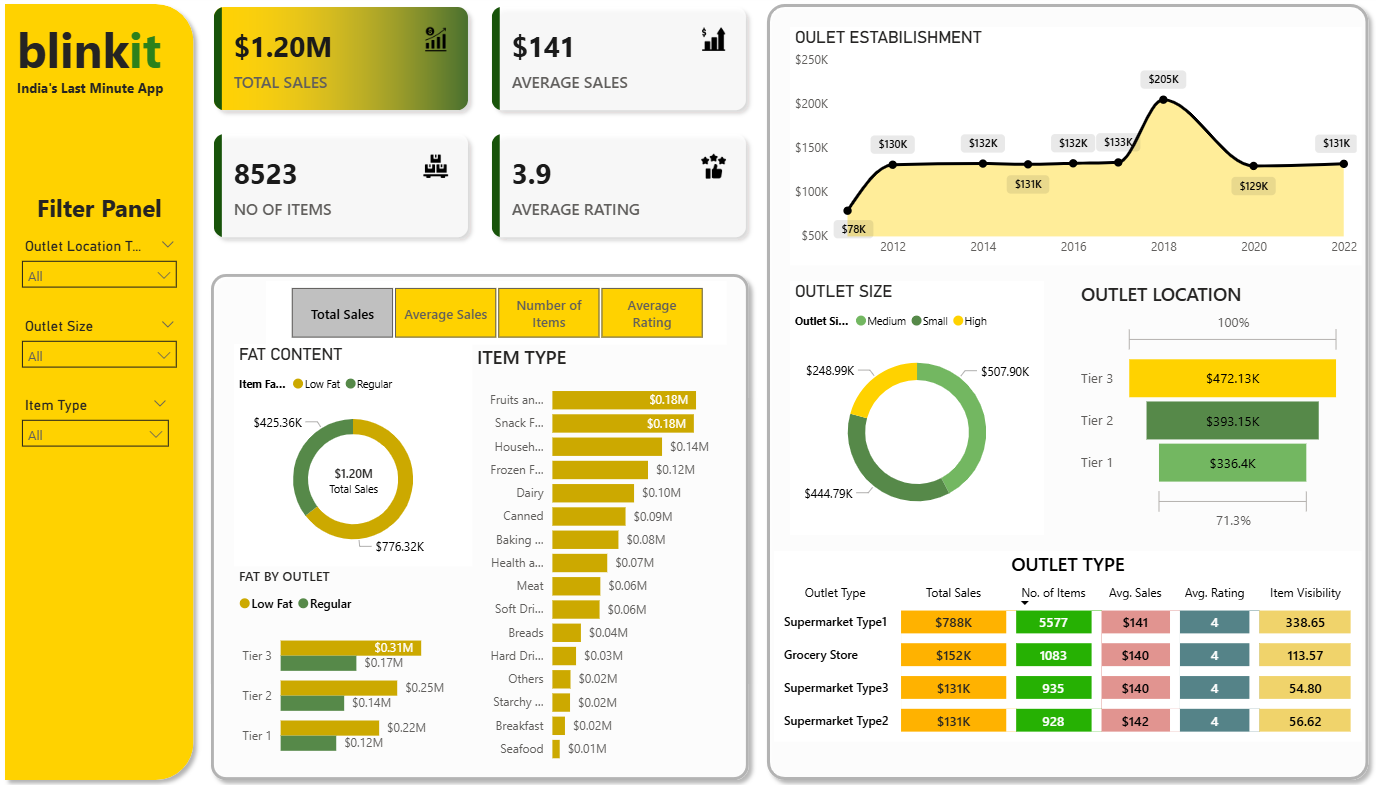

The dashboard page shown, as its layout file describes it:
{"tool":"powerbi","page":{"name":"Page 1","canvas":[1400,800],"ordinal":0},"visuals":[{"type":"shape","box":[0,0,208,800],"z":0},{"type":"textbox","box":[16,16,192,96],"z":1000},{"type":"textbox","box":[16,80,184,32],"z":2000},{"type":"cardVisual","fields":{"Data":["BlinkIT Grocery Data.Total Sales","BlinkIT Grocery Data.Average Sales","BlinkIT Grocery Data.Number of Items","BlinkIT Grocery Data.Average Rating"]},"box":[208,0,560,256],"z":3000},{"type":"shape","box":[208,272,560,528],"z":4000},{"type":"donutChart","title":"FAT CONTENT","fields":{"Y":["BlinkIT Grocery Data.Total Sales"],"Category":["BlinkIT Grocery Data.Item Fat Content"]},"box":[240,352,240,224],"z":5000},{"type":"slicer","fields":{"Values":["Metrics.Metrics"]},"box":[272,288,464,64],"z":6000},{"type":"cardVisual","fields":{"Data":["BlinkIT Grocery Data.Total Sales"]},"box":[312,456,96,64],"z":7000},{"type":"clusteredBarChart","title":"FAT BY OUTLET","fields":{"Y":["BlinkIT Grocery Data.Total Sales"],"Category":["BlinkIT Grocery Data.Outlet Location Type"],"Series":["BlinkIT Grocery Data.Item Fat Content"]},"box":[240,576,240,208],"z":8000},{"type":"barChart","title":"ITEM TYPE","fields":{"Y":["BlinkIT Grocery Data.Total Sales"],"Category":["BlinkIT Grocery Data.Item Type"]},"box":[480,352,272,432],"z":9000},{"type":"shape","box":[768,0,624,800],"z":10000},{"type":"lineChart","title":"OULET ESTABILISHMENT","fields":{"Category":["BlinkIT Grocery Data.Outlet Establishment Year"],"Y":["BlinkIT Grocery Data.Total Sales"]},"box":[800,32,576,240],"z":11000},{"type":"donutChart","title":"OUTLET SIZE","fields":{"Category":["BlinkIT Grocery Data.Outlet Size"],"Y":["BlinkIT Grocery Data.Total Sales"]},"box":[800,288,256,256],"z":12000},{"type":"funnel","title":"OUTLET LOCATION","fields":{"Y":["Sum(BlinkIT Grocery Data.Sales)"],"Category":["BlinkIT Grocery Data.Outlet Location Type"]},"box":[1088,288,272,256],"z":13000},{"type":"pivotTable","title":"OUTLET TYPE","fields":{"Rows":["BlinkIT Grocery Data.Outlet Type"],"Values":["BlinkIT Grocery Data.Total Sales","BlinkIT Grocery Data.Number of Items","BlinkIT Grocery Data.Average Sales","BlinkIT Grocery Data.Average Rating","Sum(BlinkIT Grocery Data.Item Visibility)"]},"box":[784,560,592,192],"z":14000},{"type":"slicer","fields":{"Values":["BlinkIT Grocery Data.Outlet Location Type"]},"box":[16,240,176,80],"z":14001},{"type":"slicer","fields":{"Values":["BlinkIT Grocery Data.Outlet Size"]},"box":[16,320,176,80],"z":14002},{"type":"slicer","fields":{"Values":["BlinkIT Grocery Data.Item Type"]},"box":[16,400,168,80],"z":14003},{"type":"textbox","box":[16,192,176,48],"z":14004}]}

Visuals, with their boxes in screenshot pixels (x1, y1, x2, y2), scaled from the page's 1400x800 canvas onto the 1376x785 screenshot:
shape: x1=0 y1=0 x2=204 y2=784
textbox: x1=16 y1=16 x2=204 y2=110
textbox: x1=16 y1=78 x2=197 y2=110
cardVisual - BlinkIT Grocery Data.Total Sales x BlinkIT Grocery Data.Average Sales: x1=204 y1=0 x2=755 y2=251
shape: x1=204 y1=267 x2=755 y2=784
"FAT CONTENT" donutChart: x1=236 y1=345 x2=472 y2=565
slicer - Metrics.Metrics: x1=267 y1=283 x2=723 y2=345
cardVisual - BlinkIT Grocery Data.Total Sales: x1=307 y1=447 x2=401 y2=510
"FAT BY OUTLET" clusteredBarChart: x1=236 y1=565 x2=472 y2=769
"ITEM TYPE" barChart: x1=472 y1=345 x2=739 y2=769
shape: x1=755 y1=0 x2=1368 y2=784
"OULET ESTABILISHMENT" lineChart: x1=786 y1=31 x2=1352 y2=267
"OUTLET SIZE" donutChart: x1=786 y1=283 x2=1038 y2=534
"OUTLET LOCATION" funnel: x1=1069 y1=283 x2=1337 y2=534
"OUTLET TYPE" pivotTable: x1=771 y1=550 x2=1352 y2=738
slicer - BlinkIT Grocery Data.Outlet Location Type: x1=16 y1=236 x2=189 y2=314
slicer - BlinkIT Grocery Data.Outlet Size: x1=16 y1=314 x2=189 y2=392
slicer - BlinkIT Grocery Data.Item Type: x1=16 y1=392 x2=181 y2=471
textbox: x1=16 y1=188 x2=189 y2=236
